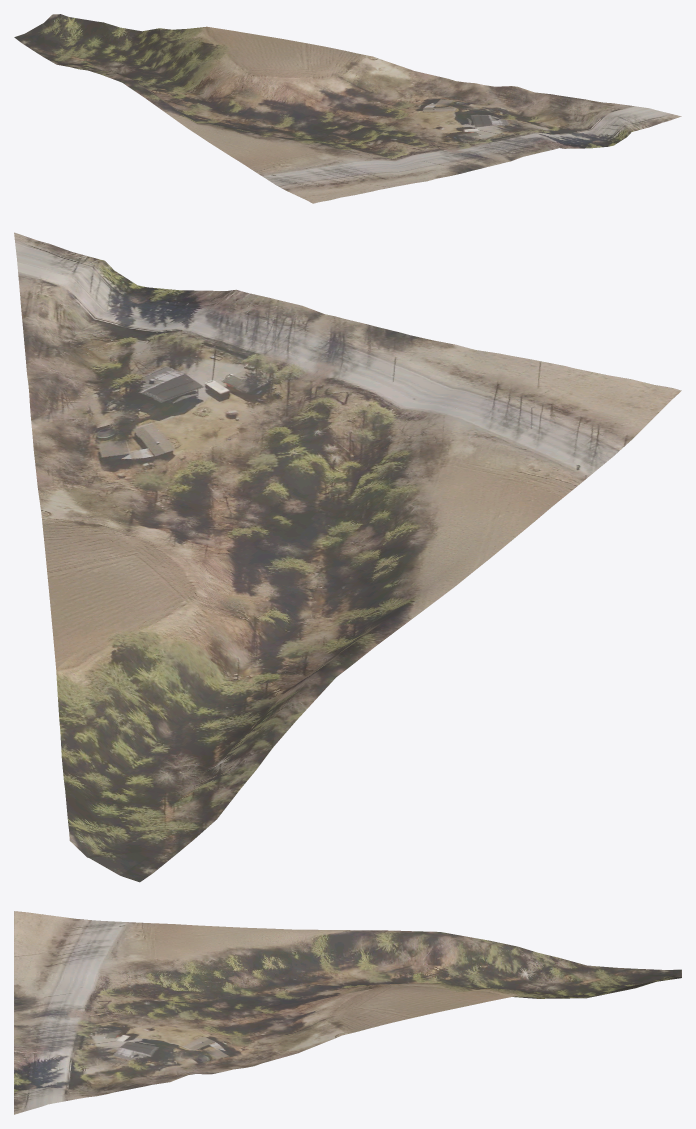
File: CM_Terrain_24493530_6817132.fbx
3 views of the same model, one above another, from view 1: azimuth 30°, elevation 25°; view 2: azimuth 150°, elevation 25°; view 3: azimuth 270°, elevation 25° (orthographic). The views are drawn at different scales.
Visible parts, largest first — view 1: CM_Terrain_24493530_6817132_LOD0; view 2: CM_Terrain_24493530_6817132_LOD0; view 3: CM_Terrain_24493530_6817132_LOD0.
Part boxes in pixels (left/top/right/bottom): CM_Terrain_24493530_6817132_LOD0: left=14, top=14, right=681, bottom=203; CM_Terrain_24493530_6817132_LOD0: left=14, top=232, right=681, bottom=882; CM_Terrain_24493530_6817132_LOD0: left=14, top=911, right=681, bottom=1114.
Size of what is drawn, in the model's own units: 146 by 20 by 205.
